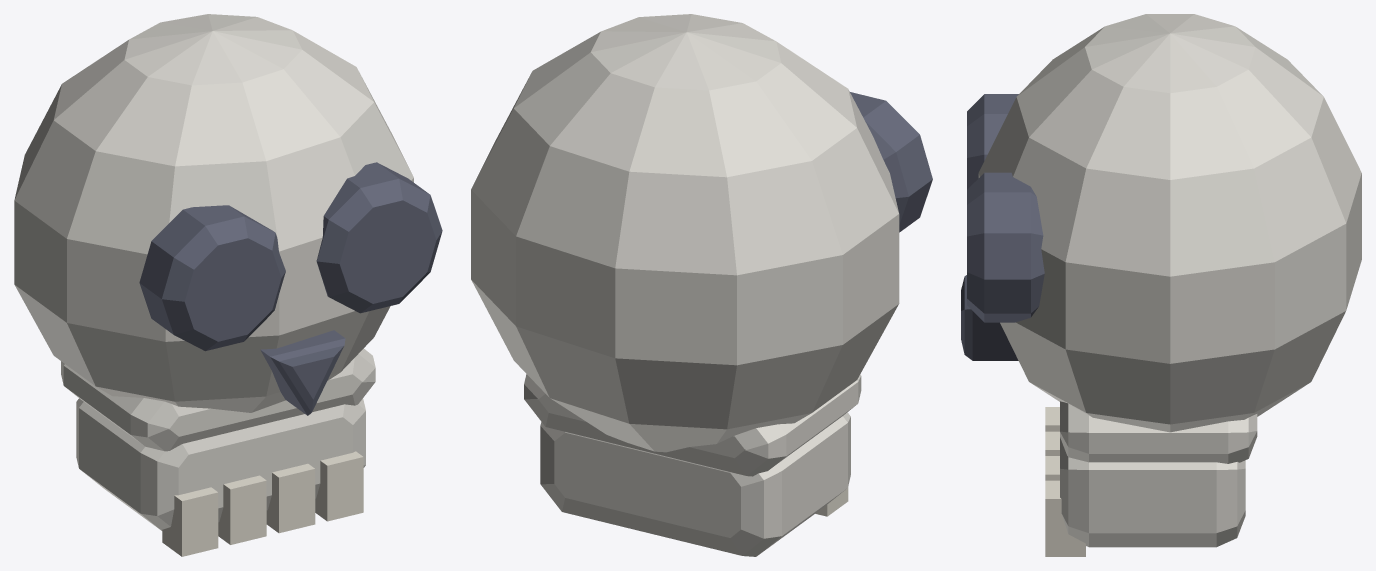
Rendered from game-ui-icon-library-skull-31c70542__18991.glb.
3 views of the same model, side by side, from view 1: azimuth 30°, elevation 25°; view 2: azimuth 150°, elevation 25°; view 3: azimuth 270°, elevation 25° (orthographic). The views are drawn at different scales.
Parts seen in each view (by area): view 1: skull; view 2: skull; view 3: skull.
Boxes of the visible parts, x1,y1,x2,y2 form: skull: (14,14,442,556); skull: (471,14,932,556); skull: (961,14,1361,556).
Bounding box in the file's own units: 0.752 × 0.94 × 0.7148.
